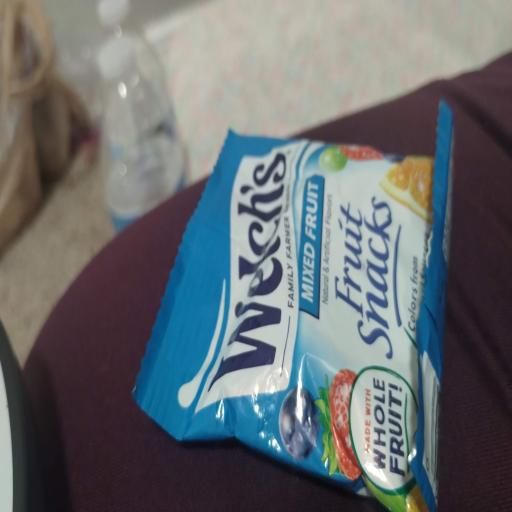chocolate: (134, 103, 452, 511)
waterbottle: (97, 31, 184, 231)
